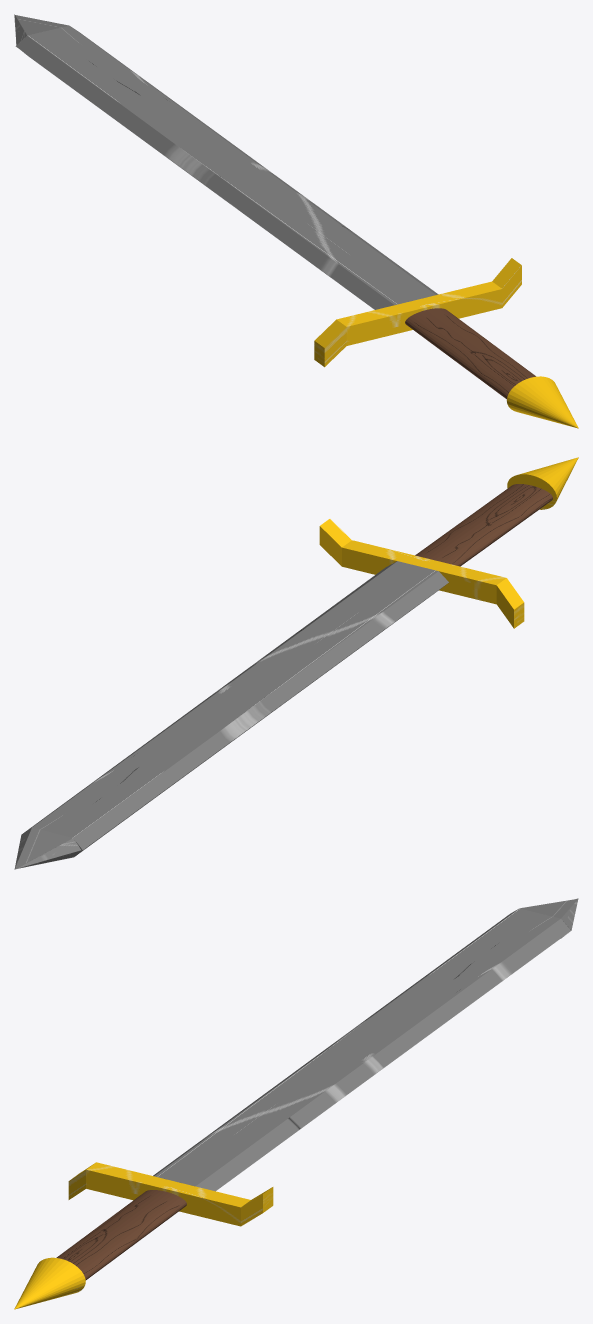
Rendered from Sword_1.obj.
3 views of the same model, one above another, from view 1: azimuth 30°, elevation 25°; view 2: azimuth 150°, elevation 25°; view 3: azimuth 330°, elevation 25° (orthographic).
Visible parts, largest first — view 1: Cube_Cube.001; view 2: Cube_Cube.001; view 3: Cube_Cube.001.
Boxes of the visible parts, bbox=[...] form: Cube_Cube.001: bbox=[14, 14, 578, 428]; Cube_Cube.001: bbox=[14, 457, 578, 869]; Cube_Cube.001: bbox=[14, 898, 578, 1309].
Bounding box in the file's own units: 0.3096 × 0.0827 × 1.55.
